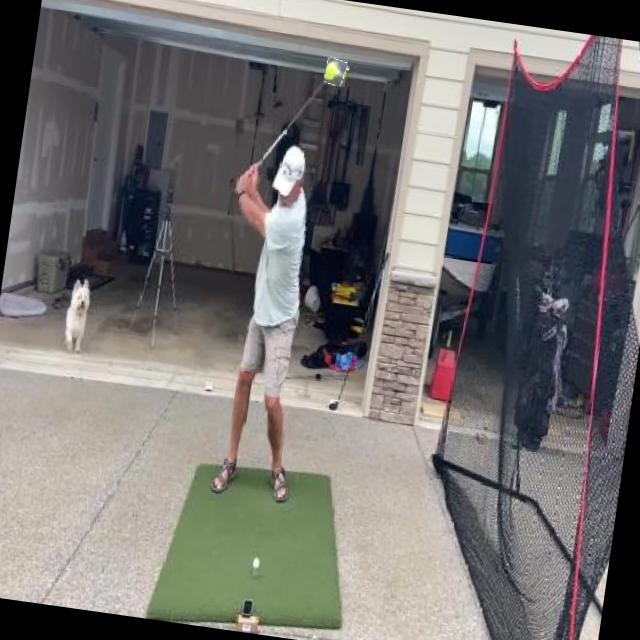club head: (324, 58, 350, 88)
